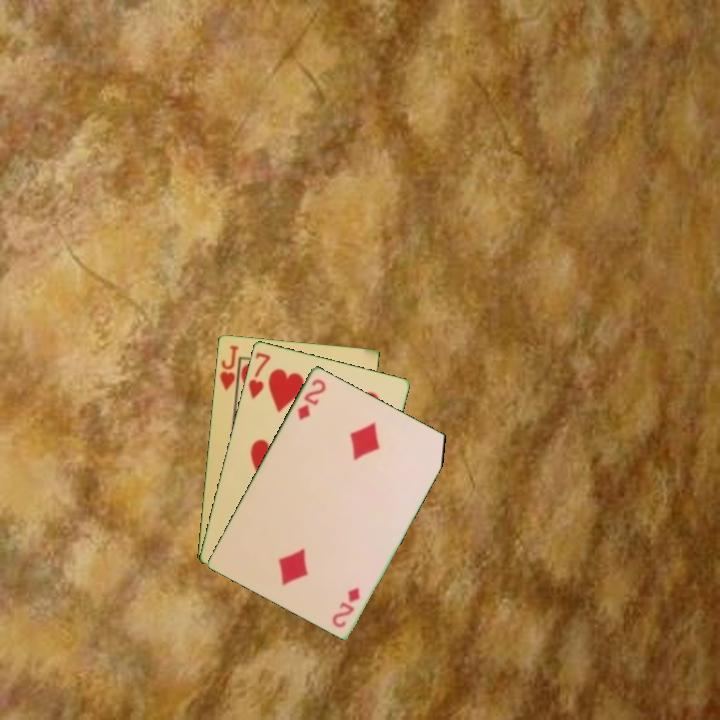2d: (294, 375, 329, 423), (329, 583, 363, 631)
7h: (244, 348, 273, 401)
Jh: (216, 341, 242, 397)
